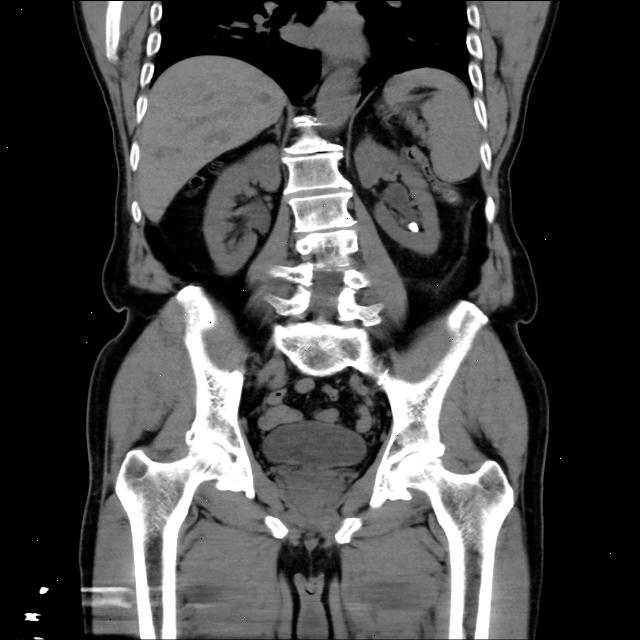kidneystone: (407, 221, 418, 232)
